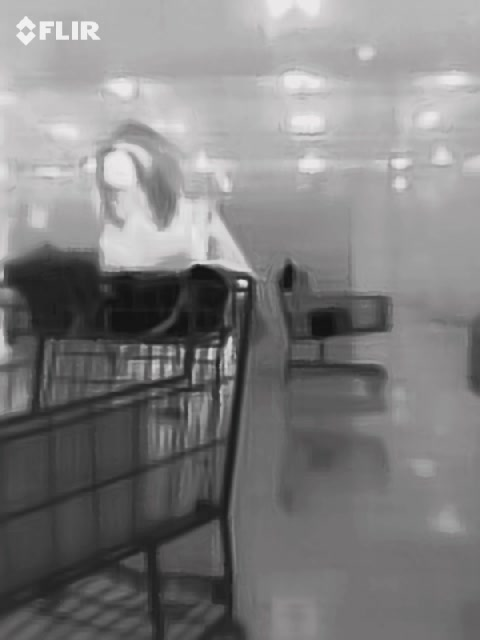head: (99, 129, 173, 219)
